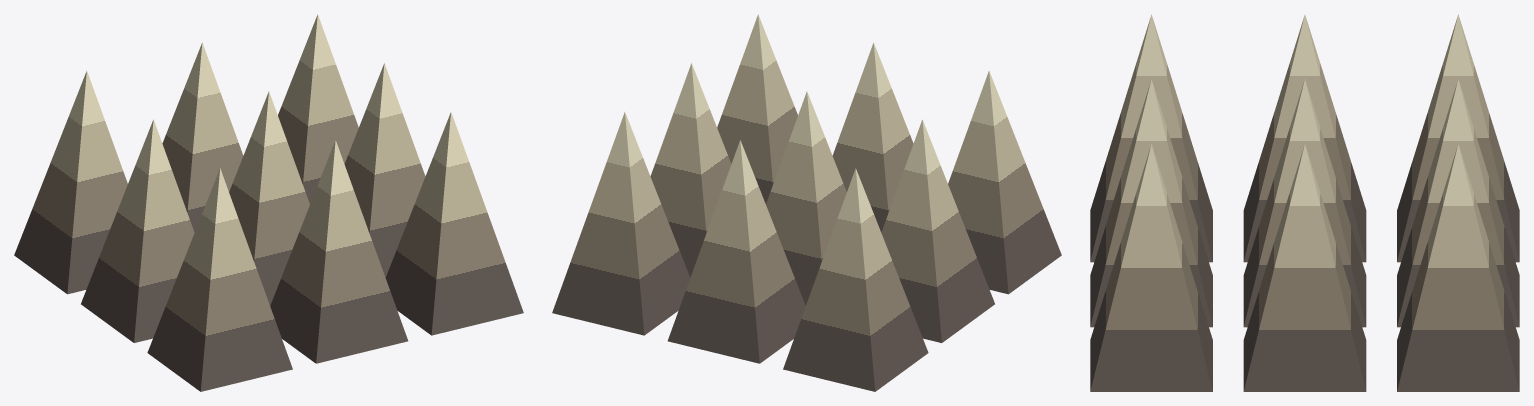
Rendered from spikes.glb.
3 renders of one model, left to right at view 1: azimuth 30°, elevation 25°; view 2: azimuth 150°, elevation 25°; view 3: azimuth 270°, elevation 25°, orthographic. The views are drawn at different scales.
Visible parts, largest first — view 1: Cube.007, Cube.009, Cube.008, Cube.005, Cube.006, Cube.004, Cube.001, Cube.003, Cube.002; view 2: Cube.005, Cube.002, Cube.003, Cube.007, Cube.006, Cube.004, Cube.001, Cube.008, Cube.009; view 3: Cube.001, Cube.002, Cube.009, Cube.004, Cube.006, Cube.003, Cube.008, Cube.005, Cube.007.
Boxes of the visible parts, box(x1,y1,x2,y2) form: Cube.007: box(147, 168, 292, 391); Cube.009: box(385, 112, 523, 335); Cube.008: box(270, 140, 408, 363); Cube.005: box(14, 71, 127, 294); Cube.006: box(81, 119, 194, 342); Cube.004: box(229, 91, 309, 305); Cube.001: box(344, 63, 425, 277); Cube.003: box(162, 42, 243, 232); Cube.002: box(278, 14, 358, 203); Cube.005: box(783, 168, 928, 391); Cube.002: box(552, 112, 690, 335); Cube.003: box(667, 140, 805, 363); Cube.007: box(948, 71, 1061, 294); Cube.006: box(881, 119, 994, 342); Cube.004: box(766, 91, 846, 305); Cube.001: box(650, 63, 731, 277); Cube.008: box(832, 42, 913, 232); Cube.009: box(717, 14, 797, 203); Cube.001: box(1243, 144, 1366, 391); Cube.002: box(1397, 144, 1519, 391); Cube.009: box(1090, 144, 1212, 391); Cube.004: box(1243, 79, 1366, 327); Cube.006: box(1243, 15, 1366, 262); Cube.003: box(1397, 79, 1519, 327); Cube.008: box(1090, 79, 1212, 327); Cube.005: box(1397, 14, 1519, 262); Cube.007: box(1090, 14, 1212, 262).
Size of the model in its own units: 1.75 by 1 by 1.75.
1 material, 1 textured.
